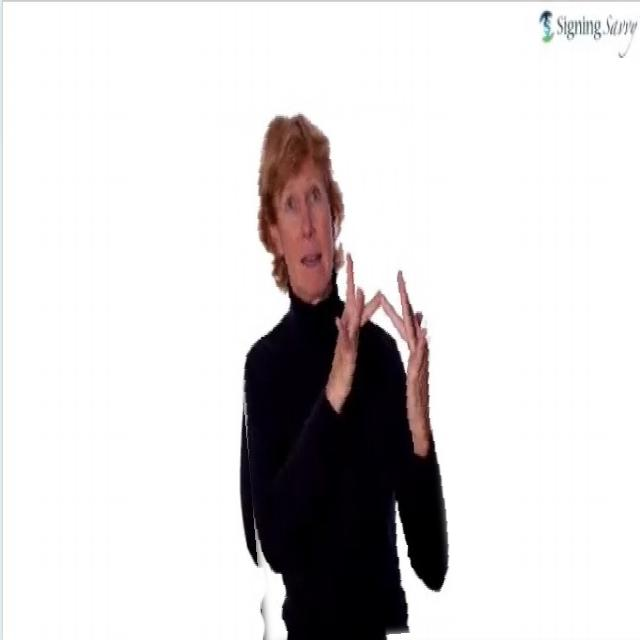Internet: (229, 98, 445, 640)
